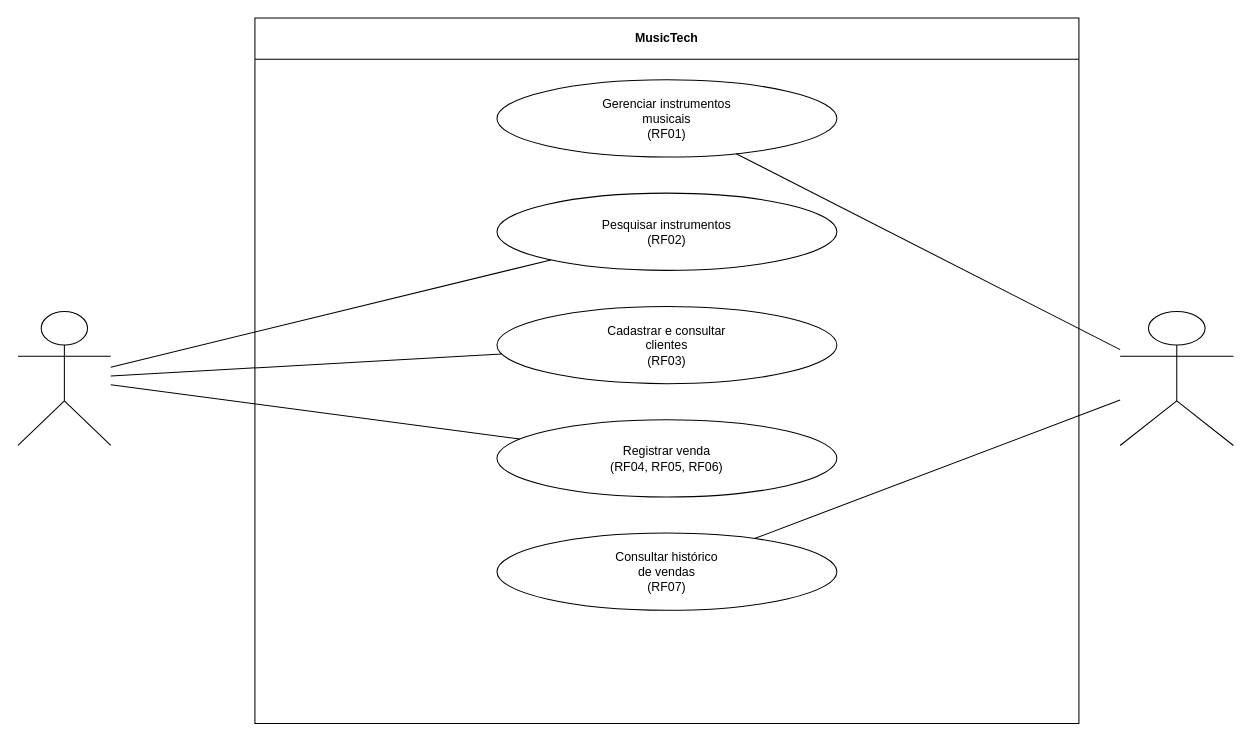
Image size: 1251x742. Some labels were removed from this diagram. Each missing label, with the centre of its shape:
"Administrador" goes at (x=1176, y=378).
"Atendente" goes at (x=64, y=378).
